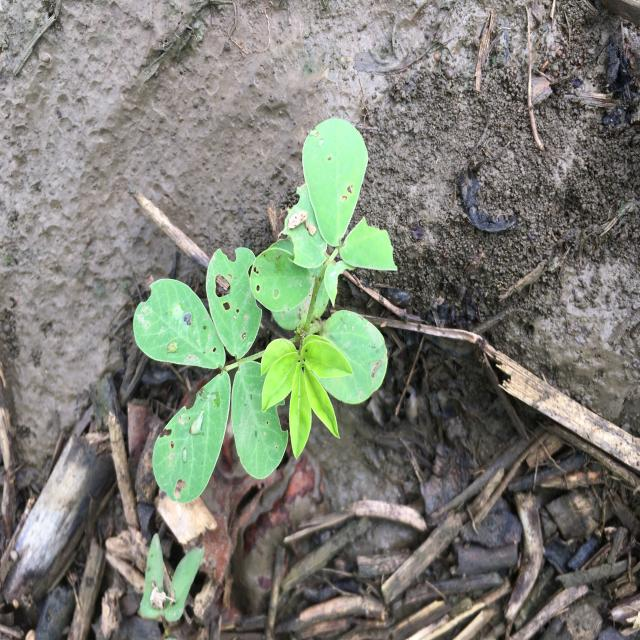MorningGlory: (138, 532, 205, 640)
Sicklepod: (132, 118, 398, 504)
